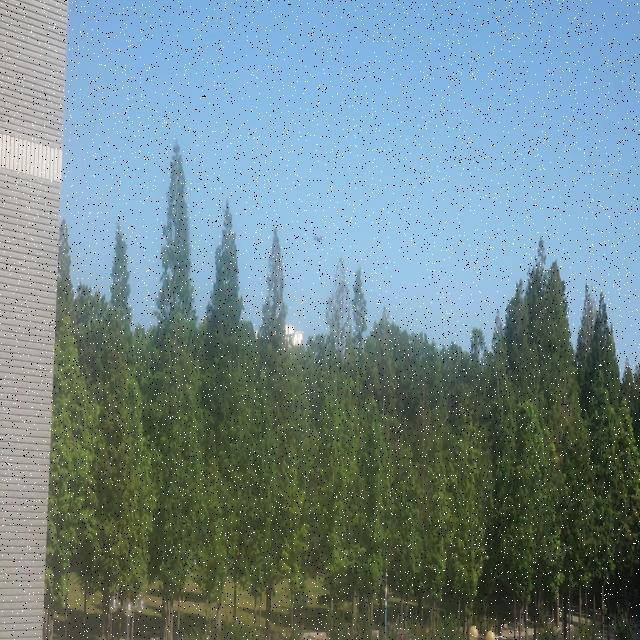UAV: (313, 235, 323, 241)
